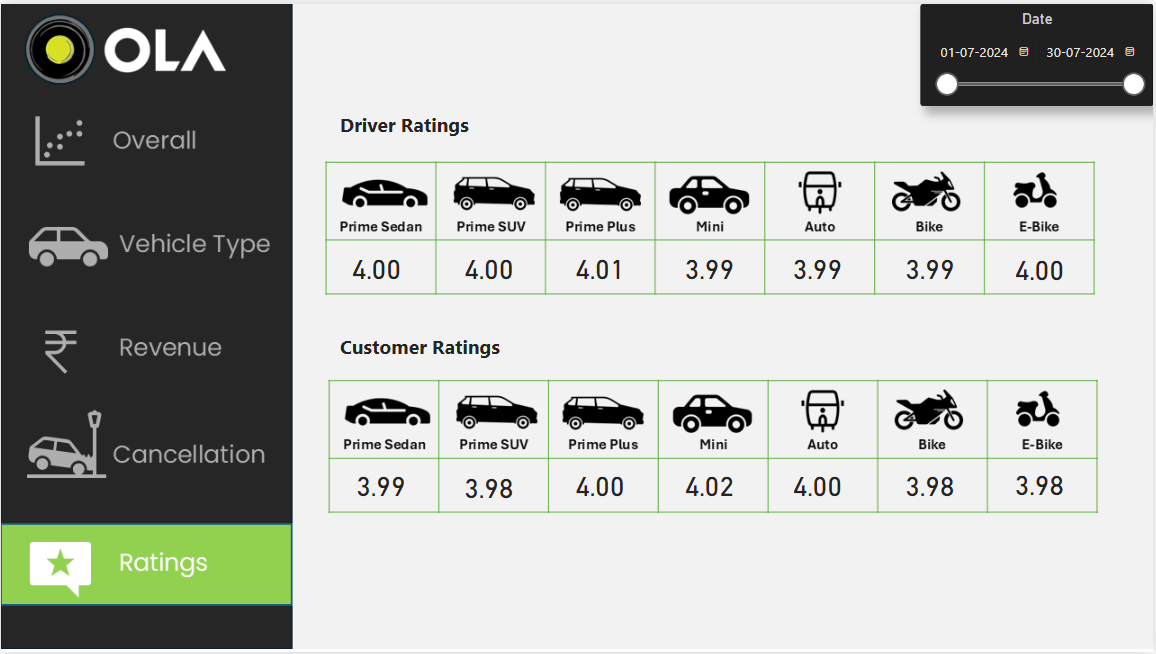

Layout of this report page (visuals, bound fields, positions):
{"tool":"powerbi","page":{"name":"Ratings","canvas":[1280,720],"ordinal":4},"visuals":[{"type":"actionButton","box":[0,221.2,323.7,94.3],"z":0},{"type":"actionButton","box":[0,336.7,323.7,94.3],"z":1000},{"type":"actionButton","box":[0,107.4,323.7,94.3],"z":2000},{"type":"actionButton","box":[0,447.3,323.7,94.3],"z":3000},{"type":"card","fields":{"Values":["Avg(July.Driver_Ratings)"]},"box":[371.7,268.3,90,48.3],"z":3001},{"type":"card","fields":{"Values":["Avg(July.Driver_Ratings)"]},"box":[496.7,268.3,90,48.3],"z":3002},{"type":"card","fields":{"Values":["Avg(July.Driver_Ratings)"]},"box":[620,268.3,90,48.3],"z":3003},{"type":"card","fields":{"Values":["Avg(July.Driver_Ratings)"]},"box":[741.7,268.3,90,48.3],"z":3004},{"type":"card","fields":{"Values":["Avg(July.Driver_Ratings)"]},"box":[861.7,268.3,90,48.3],"z":3005},{"type":"card","fields":{"Values":["Avg(July.Driver_Ratings)"]},"box":[986.7,268.3,90,48.3],"z":3006},{"type":"card","fields":{"Values":["Avg(July.Driver_Ratings)"]},"box":[1108.3,270,90,48.3],"z":3007},{"type":"card","fields":{"Values":["Avg(July.Customer_Rating)"]},"box":[376.7,510,90,48.3],"z":3008},{"type":"card","fields":{"Values":["Avg(July.Customer_Rating)"]},"box":[496.7,511.7,90,48.3],"z":3009},{"type":"card","fields":{"Values":["Avg(July.Customer_Rating)"]},"box":[620,510,90,48.3],"z":3010},{"type":"card","fields":{"Values":["Avg(July.Customer_Rating)"]},"box":[741.7,510,90,48.3],"z":3011},{"type":"card","fields":{"Values":["Avg(July.Customer_Rating)"]},"box":[861.7,510,90,48.3],"z":3012},{"type":"card","fields":{"Values":["Avg(July.Customer_Rating)"]},"box":[986.7,510,90,48.3],"z":3013},{"type":"card","fields":{"Values":["Avg(July.Customer_Rating)"]},"box":[1108.3,508.3,90,48.3],"z":3014},{"type":"textbox","box":[371.7,113.3,190,41.7],"z":3015},{"type":"textbox","box":[371.7,360,215,40],"z":3016},{"type":"slicer","title":"Date","fields":{"Values":["July.Date"]},"box":[1021.7,0,258.3,113.3],"z":3017}]}

Visuals, with their boxes on the page's 1280x720 design canvas (x1, y1, x2, y2). These are canvas units, not pixel positions in the 1156x654 screenshot, which may show the page scaled, cropped or inside an application window:
actionButton: (x1=0, y1=221, x2=324, y2=316)
actionButton: (x1=0, y1=337, x2=324, y2=431)
actionButton: (x1=0, y1=107, x2=324, y2=202)
actionButton: (x1=0, y1=447, x2=324, y2=542)
card - Avg(July.Driver_Ratings): (x1=372, y1=268, x2=462, y2=317)
card - Avg(July.Driver_Ratings): (x1=497, y1=268, x2=587, y2=317)
card - Avg(July.Driver_Ratings): (x1=620, y1=268, x2=710, y2=317)
card - Avg(July.Driver_Ratings): (x1=742, y1=268, x2=832, y2=317)
card - Avg(July.Driver_Ratings): (x1=862, y1=268, x2=952, y2=317)
card - Avg(July.Driver_Ratings): (x1=987, y1=268, x2=1077, y2=317)
card - Avg(July.Driver_Ratings): (x1=1108, y1=270, x2=1198, y2=318)
card - Avg(July.Customer_Rating): (x1=377, y1=510, x2=467, y2=558)
card - Avg(July.Customer_Rating): (x1=497, y1=512, x2=587, y2=560)
card - Avg(July.Customer_Rating): (x1=620, y1=510, x2=710, y2=558)
card - Avg(July.Customer_Rating): (x1=742, y1=510, x2=832, y2=558)
card - Avg(July.Customer_Rating): (x1=862, y1=510, x2=952, y2=558)
card - Avg(July.Customer_Rating): (x1=987, y1=510, x2=1077, y2=558)
card - Avg(July.Customer_Rating): (x1=1108, y1=508, x2=1198, y2=557)
textbox: (x1=372, y1=113, x2=562, y2=155)
textbox: (x1=372, y1=360, x2=587, y2=400)
"Date" slicer: (x1=1022, y1=0, x2=1280, y2=113)
